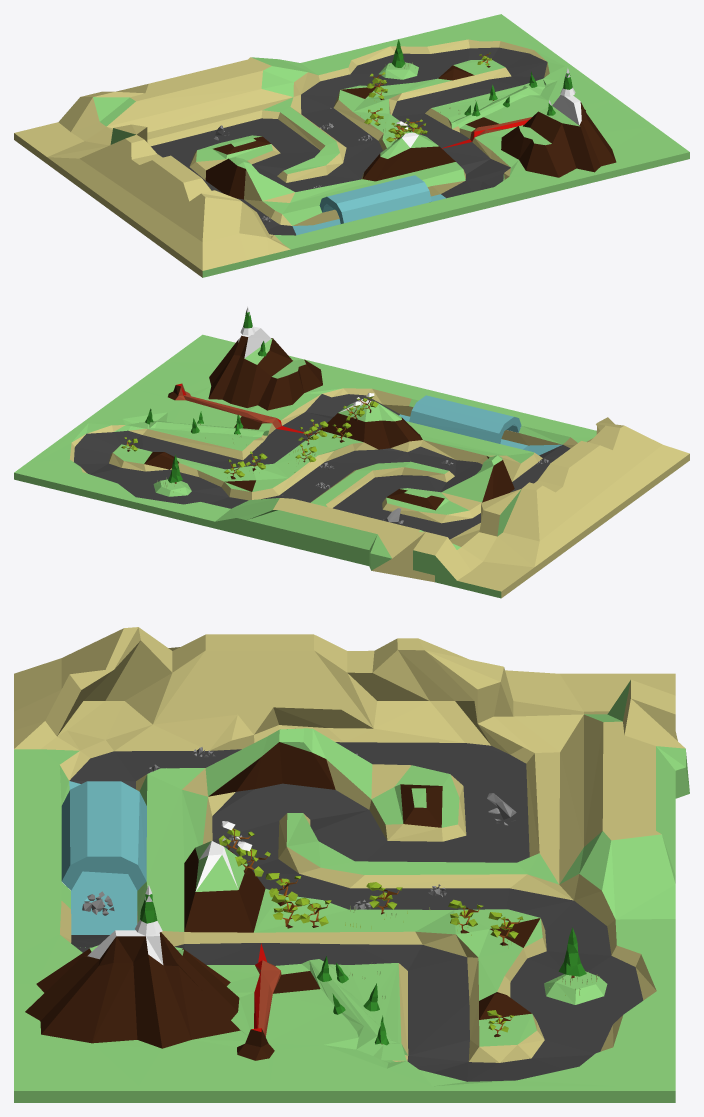
File: bubble2.fbx
3 renders of one model, top to bottom at view 1: azimuth 30°, elevation 25°; view 2: azimuth 150°, elevation 25°; view 3: azimuth 270°, elevation 25°, orthographic. The views are drawn at different scales.
Parts seen in each view (by area): view 1: Plane.002; view 2: Plane.002; view 3: Plane.002.
Boxes of the visible parts, <box> form: Plane.002: <box>14,14,689,277</box>; Plane.002: <box>14,307,689,598</box>; Plane.002: <box>14,627,689,1102</box>.
Size of the model in its own units: 548 by 800 by 147.
